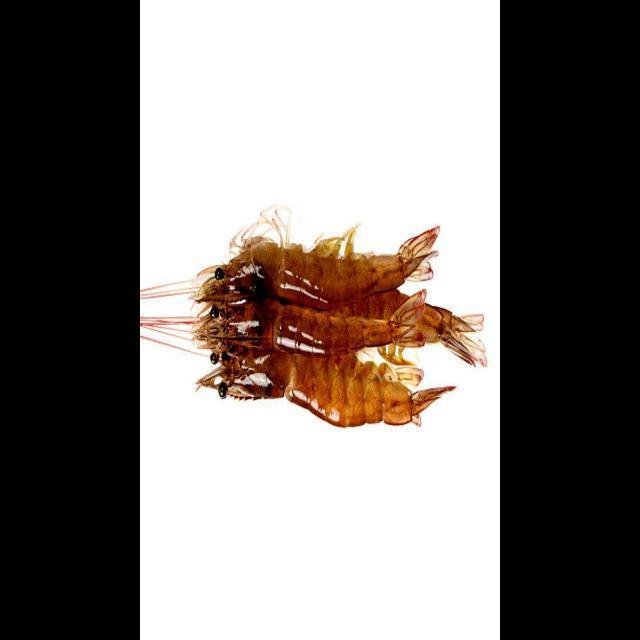shrimp: (196, 227, 438, 307), (198, 351, 453, 426), (193, 291, 425, 355)
